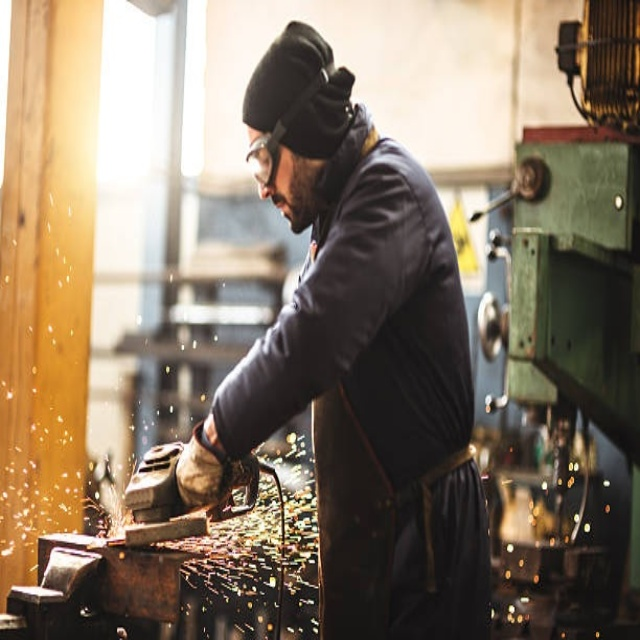Gafas: (246, 134, 280, 188)
Guantes: (177, 416, 244, 510)
Sin_mascara: (262, 191, 301, 231)
